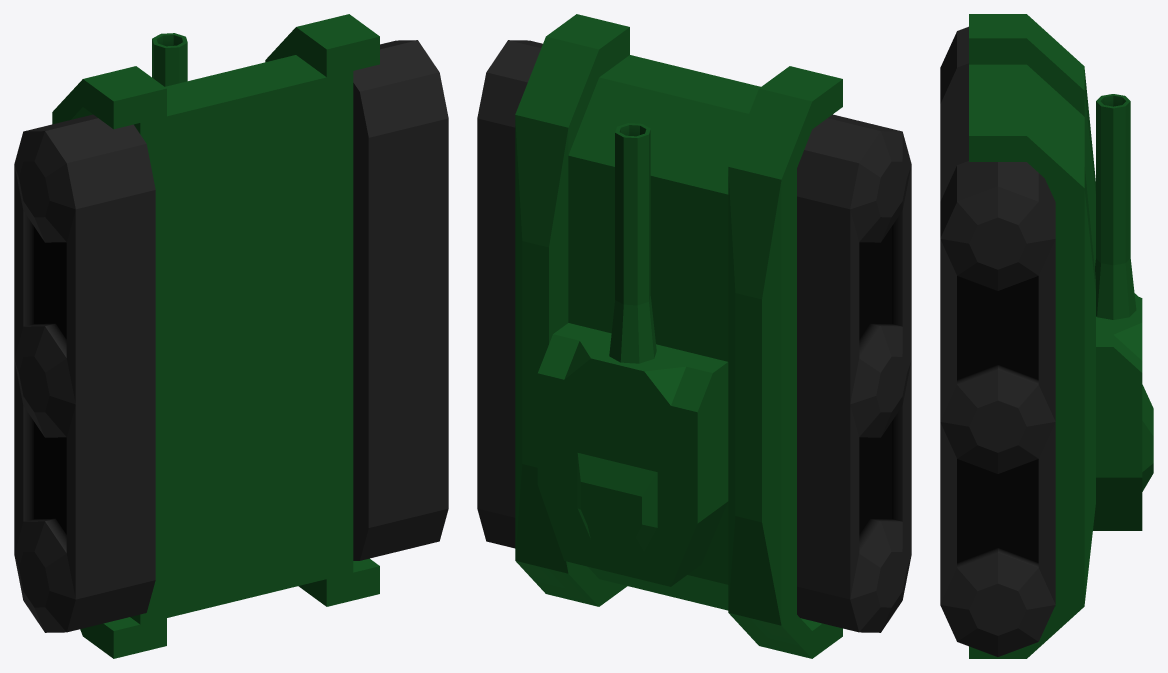
File: TankagaPlayer.fbx
3 renders of one model, left to right at view 1: azimuth 30°, elevation 25°; view 2: azimuth 150°, elevation 25°; view 3: azimuth 270°, elevation 25°, orthographic. The views are drawn at different scales.
Parts seen in each view (by area): view 1: Cube; view 2: Cube; view 3: Cube.
Part boxes in pixels (bbox=[...]): Cube: bbox=[14, 14, 448, 658]; Cube: bbox=[477, 14, 911, 658]; Cube: bbox=[940, 14, 1153, 658].
Size of the model in its own units: 370 by 500 by 185.
